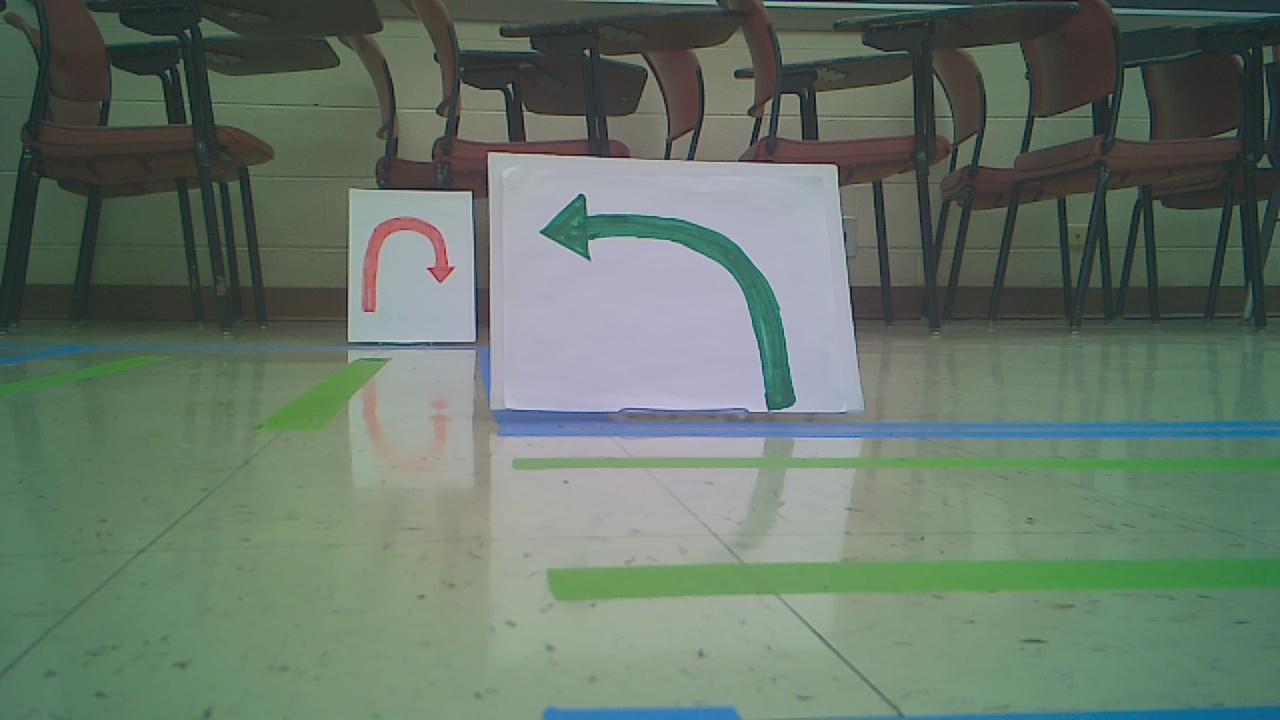greenline: (562, 544, 1274, 602), (517, 458, 1276, 475), (263, 357, 383, 431), (7, 351, 165, 401)
left: (534, 191, 799, 412)
uturn: (360, 212, 457, 315)
